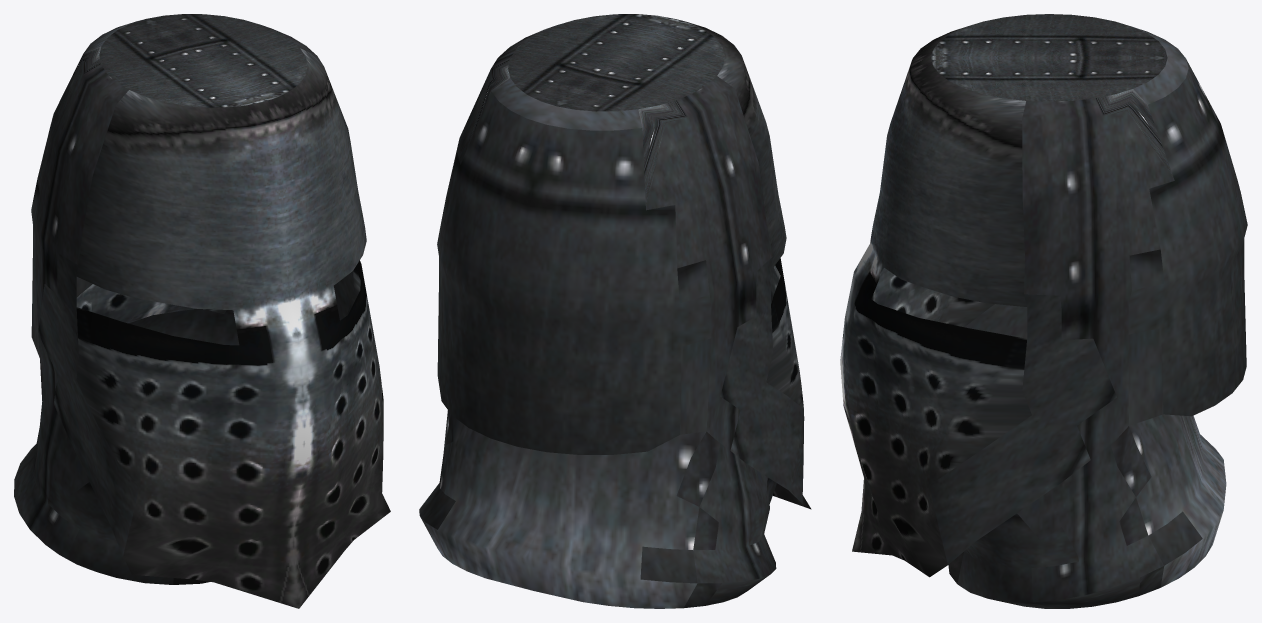
Rendered from Helmet.fbx.
3 views of the same model, side by side, from view 1: azimuth 30°, elevation 25°; view 2: azimuth 150°, elevation 25°; view 3: azimuth 270°, elevation 25° (orthographic). The views are drawn at different scales.
Visible parts, largest first — view 1: Cylinder; view 2: Cylinder; view 3: Cylinder.
Boxes of the visible parts, x1=… form: Cylinder: x1=14, y1=14, x2=390, y2=608; Cylinder: x1=419, y1=14, x2=811, y2=608; Cylinder: x1=840, y1=14, x2=1247, y2=608.
Size of the model in its own units: 2.57 by 3.79 by 2.82.
